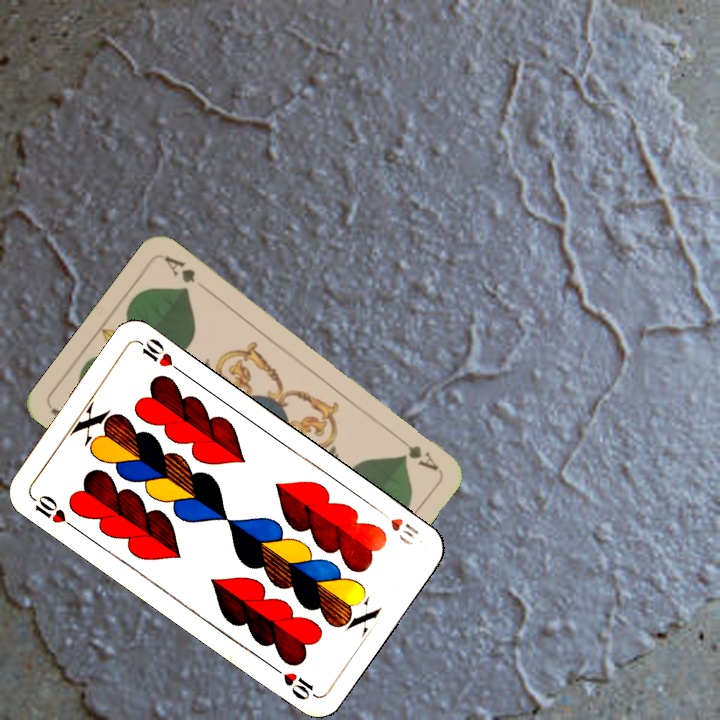GA: (392, 430, 441, 474)
H10: (27, 490, 79, 532), (374, 505, 422, 548)
